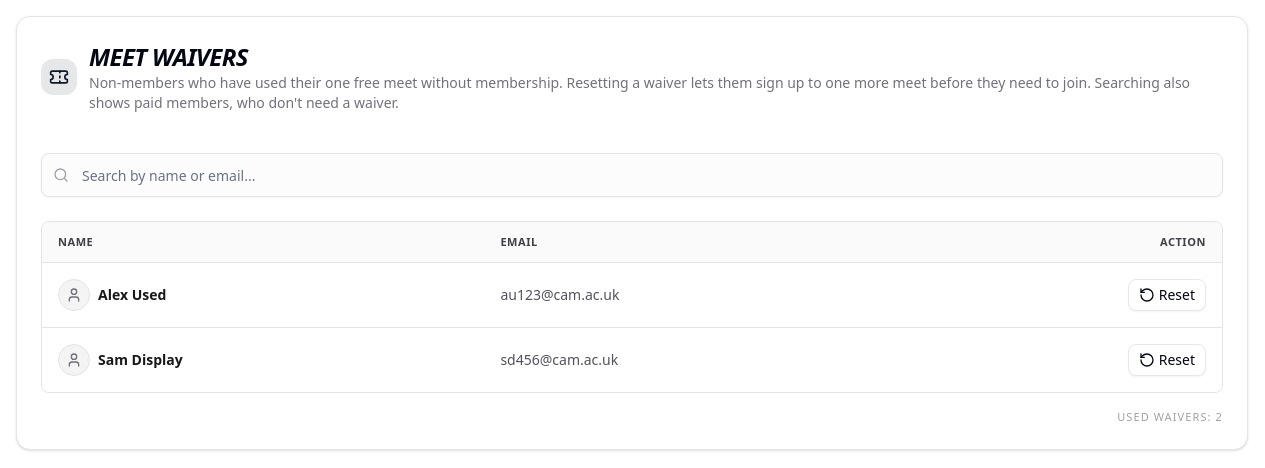
Test case: Waivers — listing › hides paid members until searched for
This screenshot has width=1265, height=468.
Expected: the text "Alex Used" is shown, [98,285,166,305]
Expected: the text "Jo Paid" is not shown
Type "jo" into the field with placeholder "Search by name or email..." at (632, 175), box [41,153,1223,197]
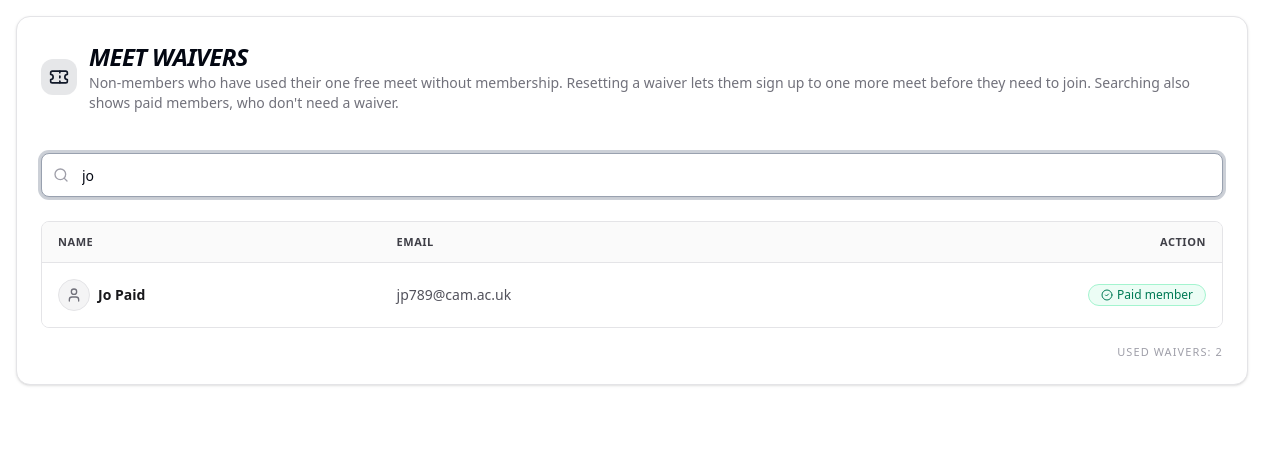
Expected: the text "Jo Paid" is shown, [98,285,145,305]
Expected: the link "Alex Used" is gone
